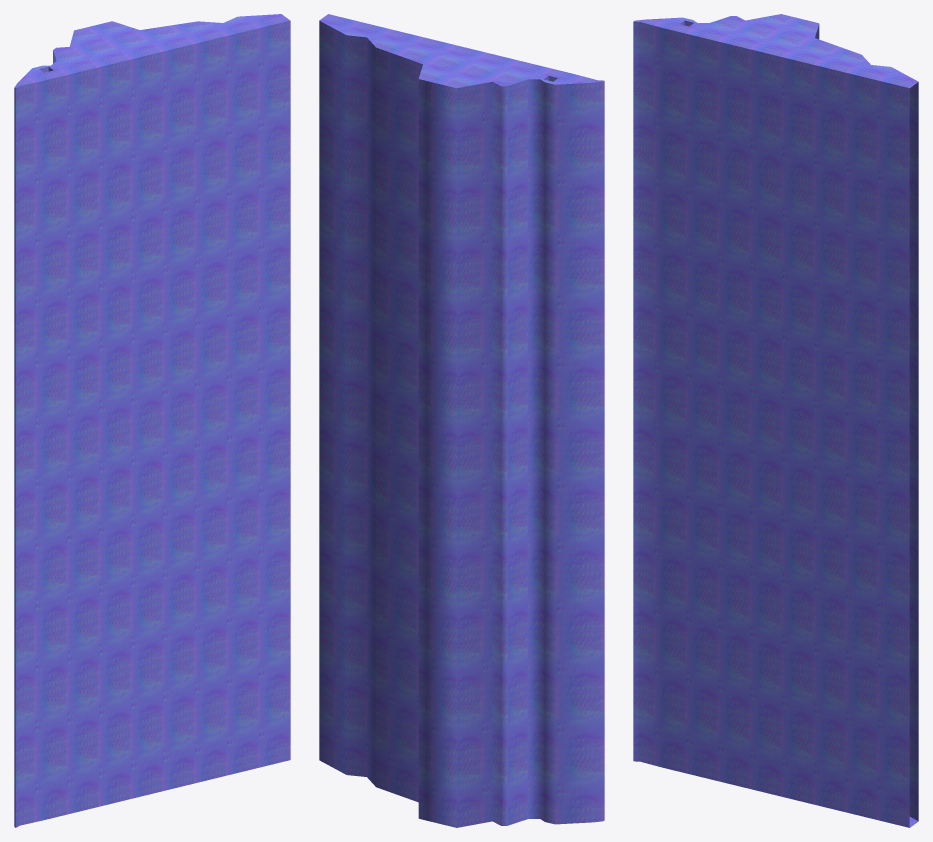
The model's file is env_st_salle_2_sol_1.fbx.
3 views of the same model, side by side, from view 1: azimuth 30°, elevation 25°; view 2: azimuth 150°, elevation 25°; view 3: azimuth 330°, elevation 25° (orthographic).
Visible parts, largest first — view 1: Box001; view 2: Box001; view 3: Box001.
Part boxes in pixels (<box>): Box001: <box>14,14,290,827</box>; Box001: <box>319,14,604,827</box>; Box001: <box>633,14,918,827</box>.
Size of the model in its own units: 3770 by 9668 by 1063.
